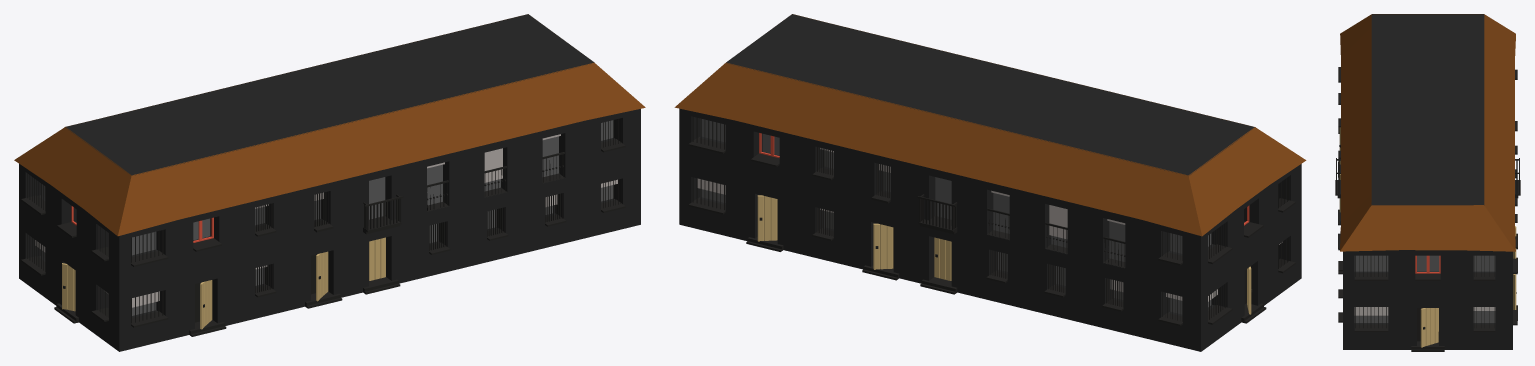
File: Casa_Procedural_7.fbx
3 views of the same model, side by side, from view 1: azimuth 30°, elevation 25°; view 2: azimuth 150°, elevation 25°; view 3: azimuth 270°, elevation 25° (orthographic). The views are drawn at different scales.
Visible parts, largest first — view 1: 7; view 2: 7; view 3: 7.
Part boxes in pixels (left/top/right/bottom): 7: left=14, top=14, right=645, bottom=351; 7: left=674, top=14, right=1306, bottom=351; 7: left=1335, top=14, right=1520, bottom=351.
Size of the model in its own units: 918 by 259 by 327.
